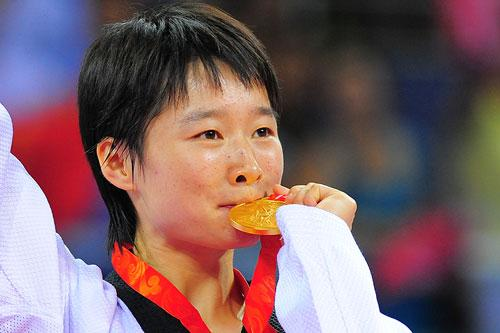face: (148, 66, 285, 246)
